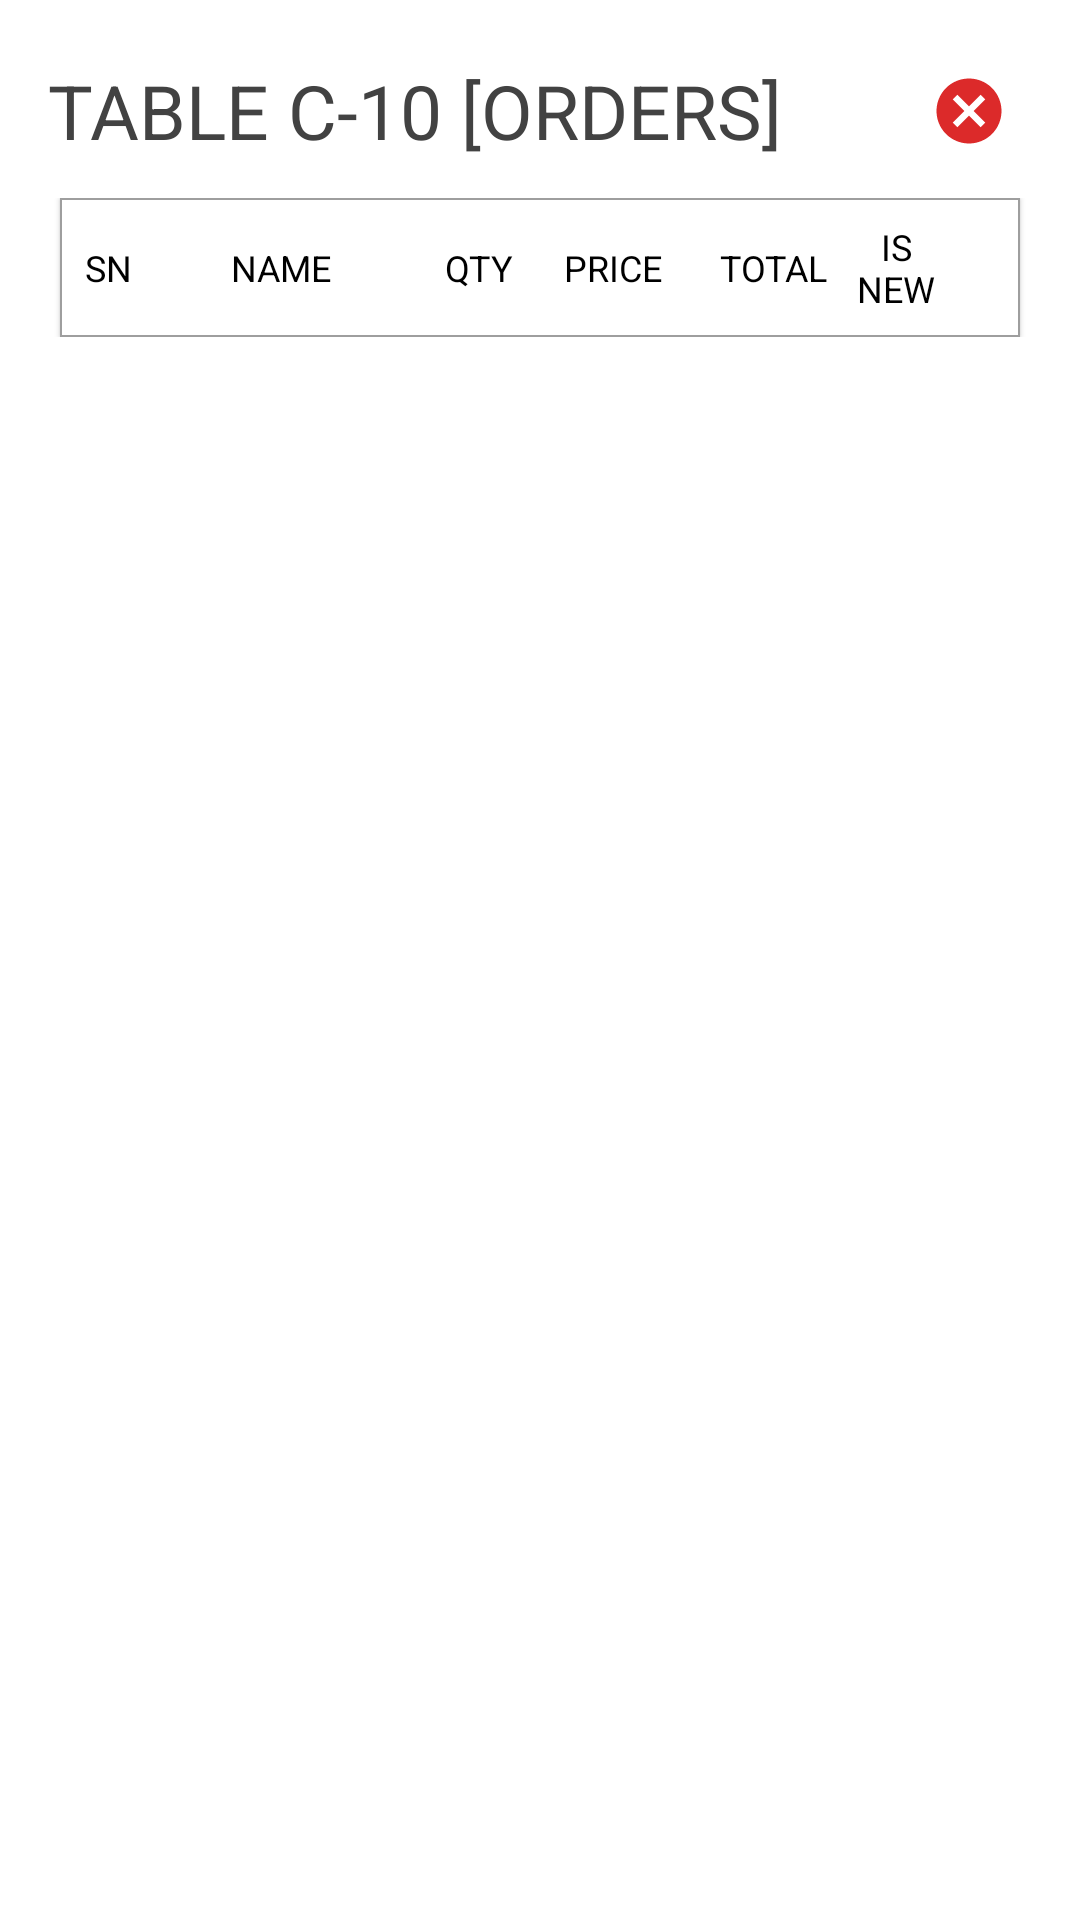

Icon bounding boxes for this 1080w x 1920h phone screenshot, format (x1, y1, x2, y2):
Button close: (936, 78, 1002, 144)
